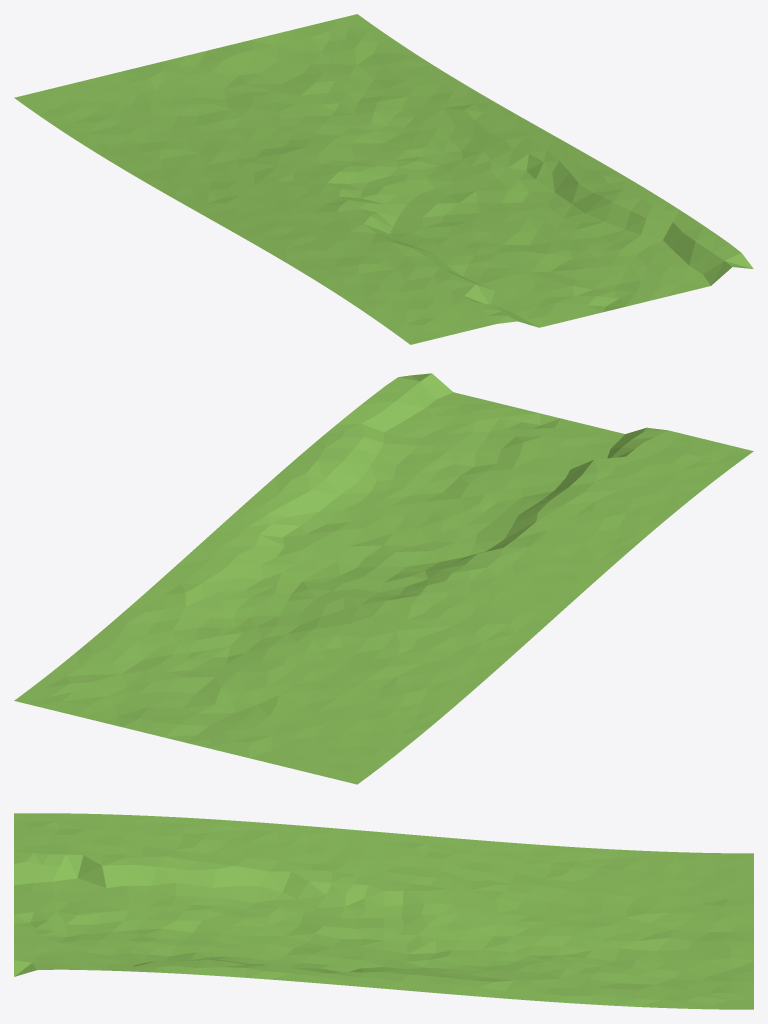
File: MT_River_End_M_b_03_R_LOD.fbx
3 renders of one model, top to bottom at view 1: azimuth 30°, elevation 25°; view 2: azimuth 150°, elevation 25°; view 3: azimuth 270°, elevation 25°, orthographic. The views are drawn at different scales.
Visible parts, largest first — view 1: MT_River_End_M_b_03_R_LOD0; view 2: MT_River_End_M_b_03_R_LOD0; view 3: MT_River_End_M_b_03_R_LOD0.
Boxes of the visible parts, <box> form: MT_River_End_M_b_03_R_LOD0: <box>14,14,753,344</box>; MT_River_End_M_b_03_R_LOD0: <box>14,373,753,784</box>; MT_River_End_M_b_03_R_LOD0: <box>14,813,753,1009</box>.
Size of what is drawn, in the model's own units: 50 by 6.28 by 100.
